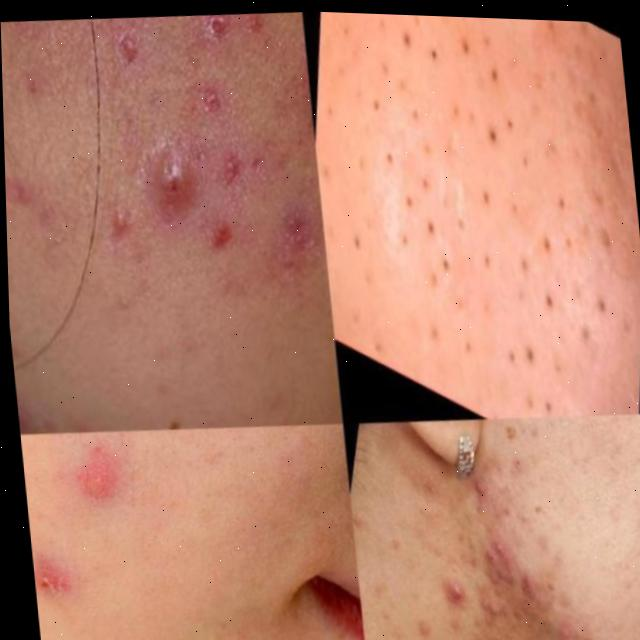Acne: (342, 13, 578, 332), (47, 6, 274, 252), (450, 511, 566, 626), (33, 556, 75, 601), (72, 458, 115, 495)
